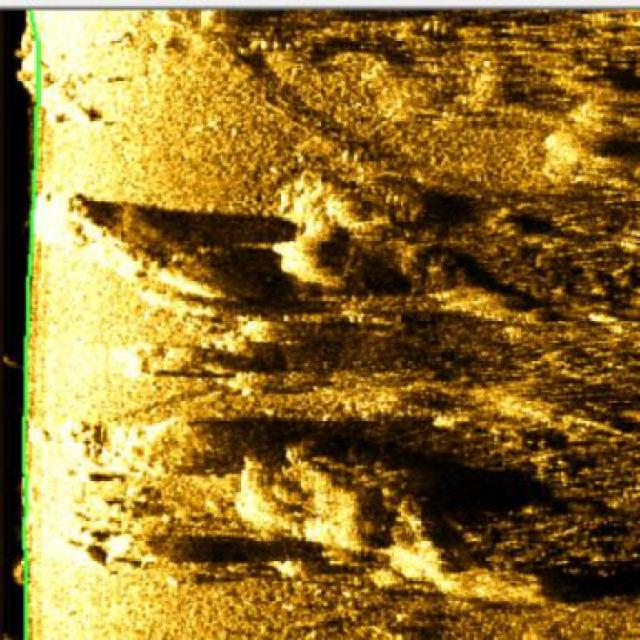bedrock group: (28, 7, 640, 638)
